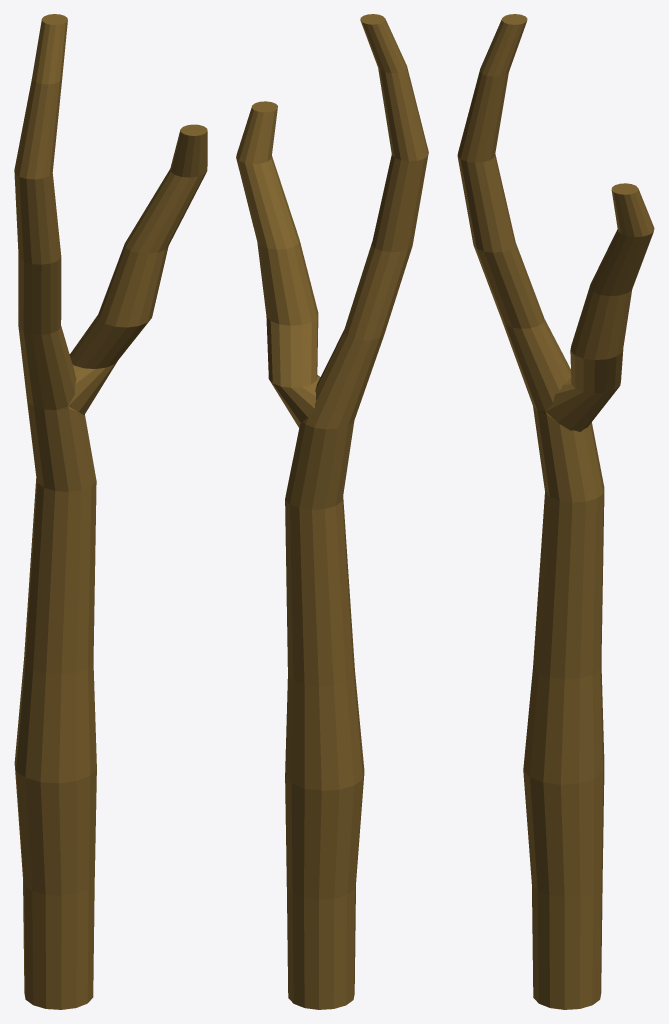
Rendered from Stick 1.3.fbx.
3 views of the same model, side by side, from view 1: azimuth 30°, elevation 25°; view 2: azimuth 150°, elevation 25°; view 3: azimuth 330°, elevation 25° (orthographic). The views are drawn at different scales.
Parts seen in each view (by area): view 1: Stick A3; view 2: Stick A3; view 3: Stick A3.
Boxes of the visible parts, box(x1,y1,x2,y2) form: Stick A3: box(14, 14, 207, 1009); Stick A3: box(236, 14, 428, 1009); Stick A3: box(457, 14, 654, 1009).
Size of the model in its own units: 541 by 2709 by 323.
